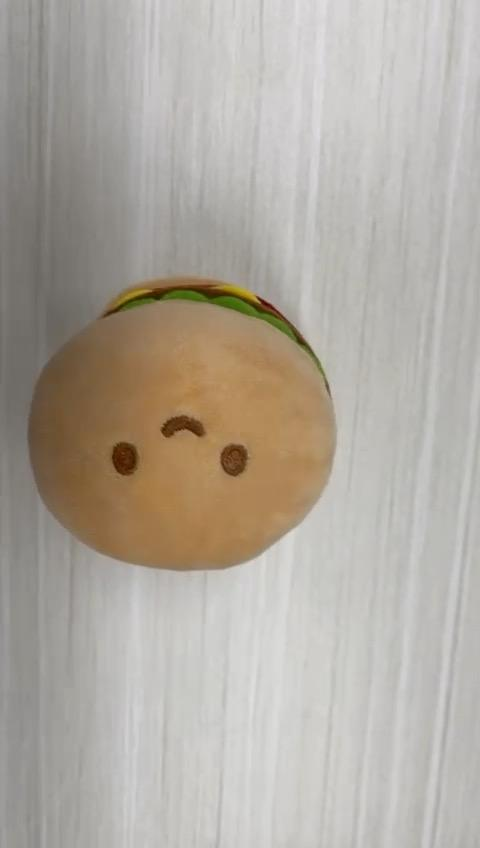hamburger: (26, 276, 337, 570)
